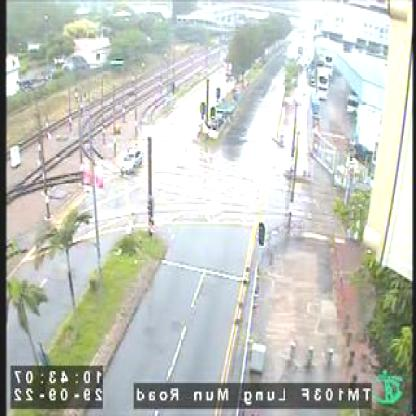Car: (121, 140, 147, 170)
